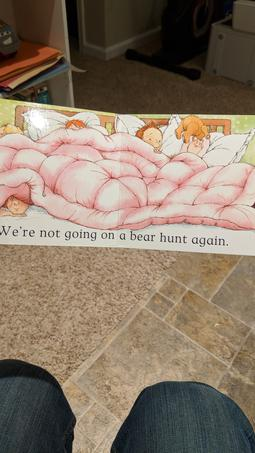text block: (1, 223, 231, 253)
